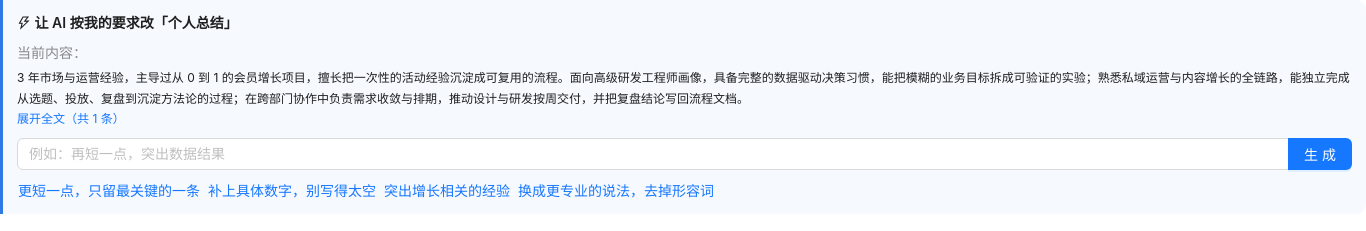
当前内容的折叠显示 › 点「展开全文」看得到全部，再点「收起」回到折叠
Click the link "展开全文（共 1 条）" at (71, 119), box [17, 111, 125, 126]
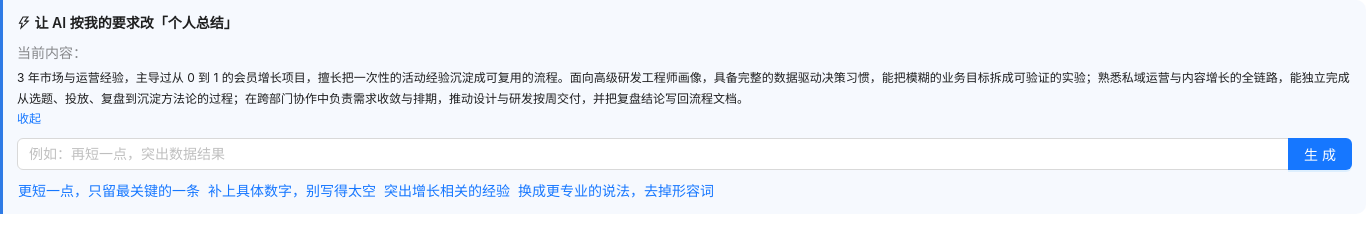
Expected: the link "收起" is shown
Click the link "收起" at (29, 119), box [17, 111, 41, 126]
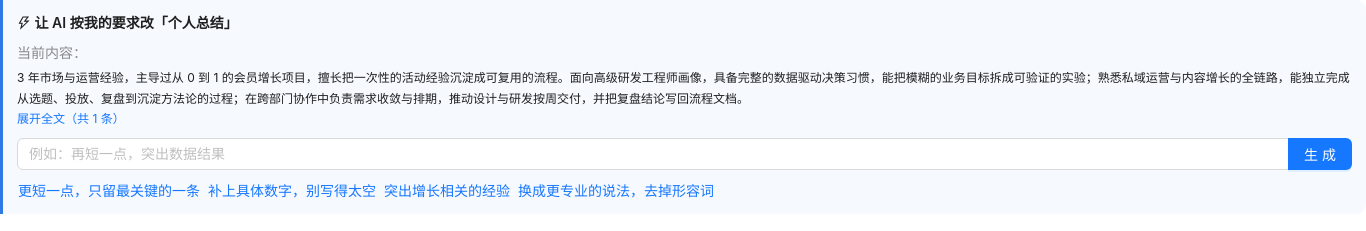
Expected: the link "展开全文（共 1 条）" is shown, [17, 111, 125, 126]
